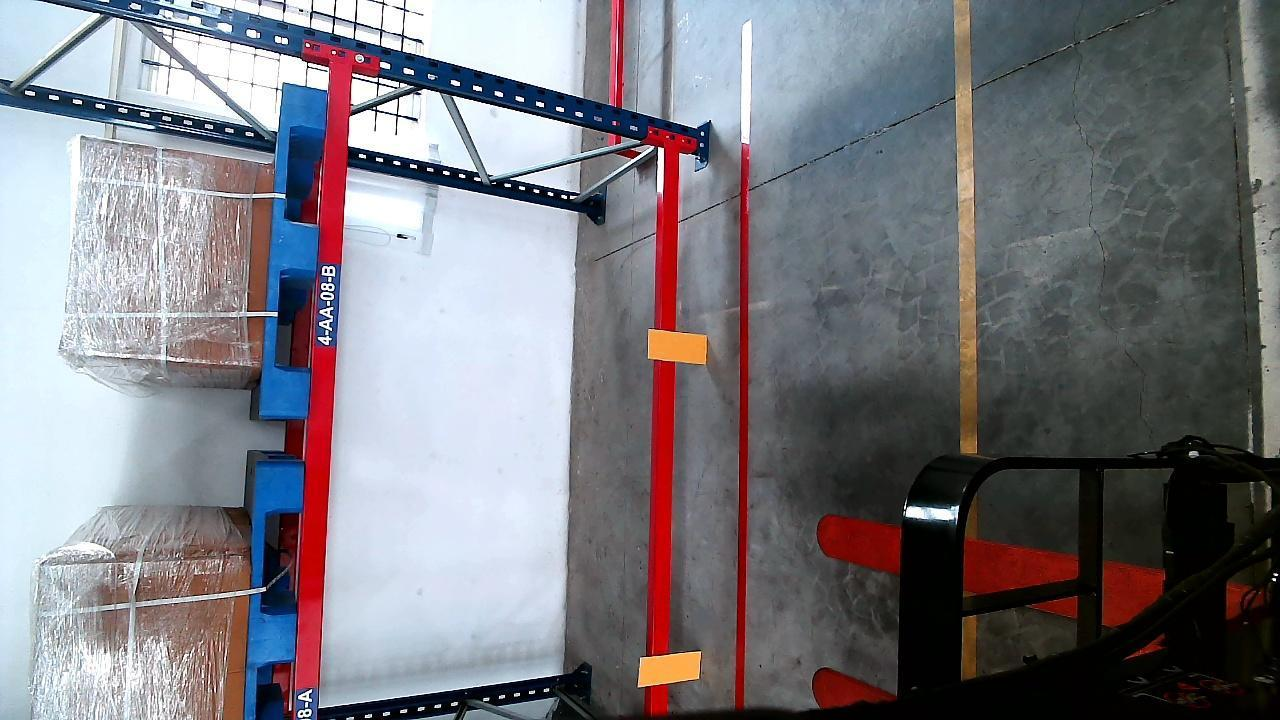h_rack: (291, 65, 351, 720), (649, 149, 678, 715)
orange_strip: (639, 649, 703, 688), (650, 329, 710, 362)
red_line: (733, 134, 752, 707)
small_pallet: (260, 80, 322, 415), (247, 468, 303, 718)
yellow_line: (955, 1, 981, 443)
